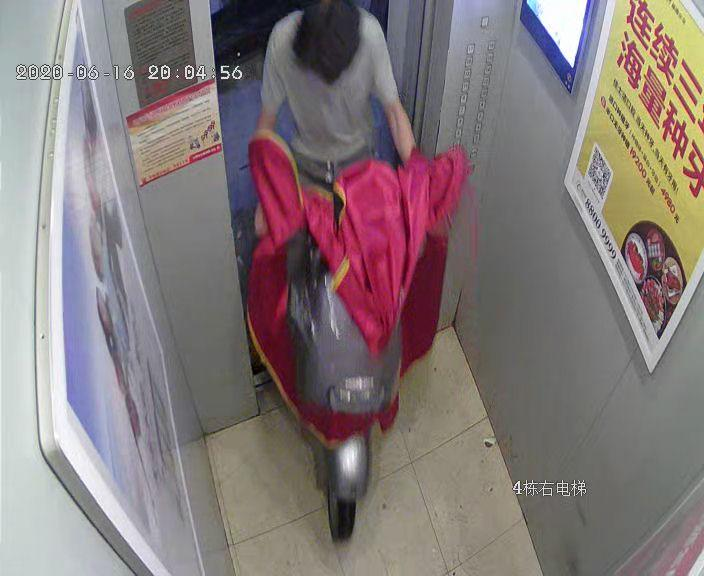Electric-bicycle: (234, 129, 453, 540)
